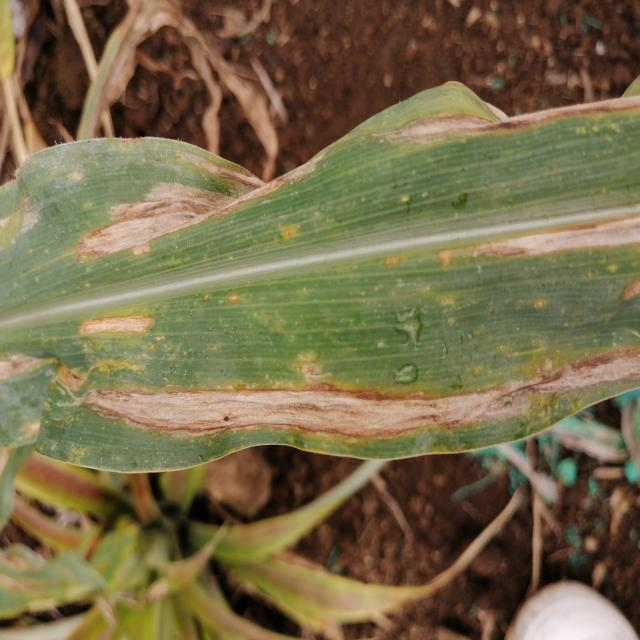Corn_Leaf_Blight: (0, 91, 640, 469)
